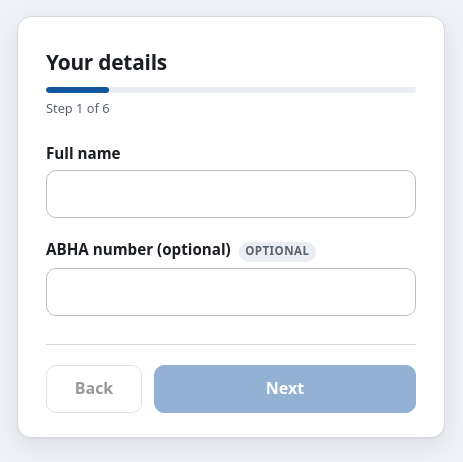
Test case: App › does not let a blank optional question block Next once the required question is answered
Expected: the text "Full name" is shown, [46, 143, 121, 163]
Expected: the button "Next" is disabled, [154, 365, 416, 413]
In the field labelled "Full name": (231, 194) [46, 170, 416, 218], type "Asha Verma"
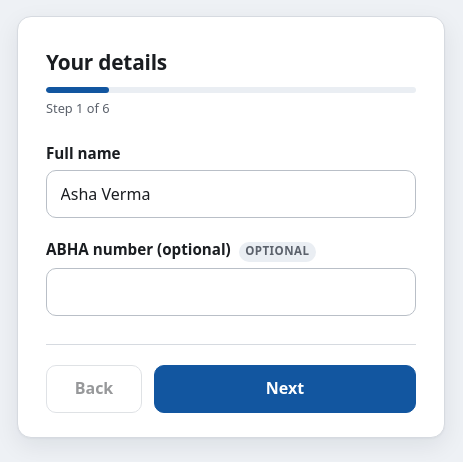
Result: the button "Next" is enabled at [154, 365, 416, 413]
